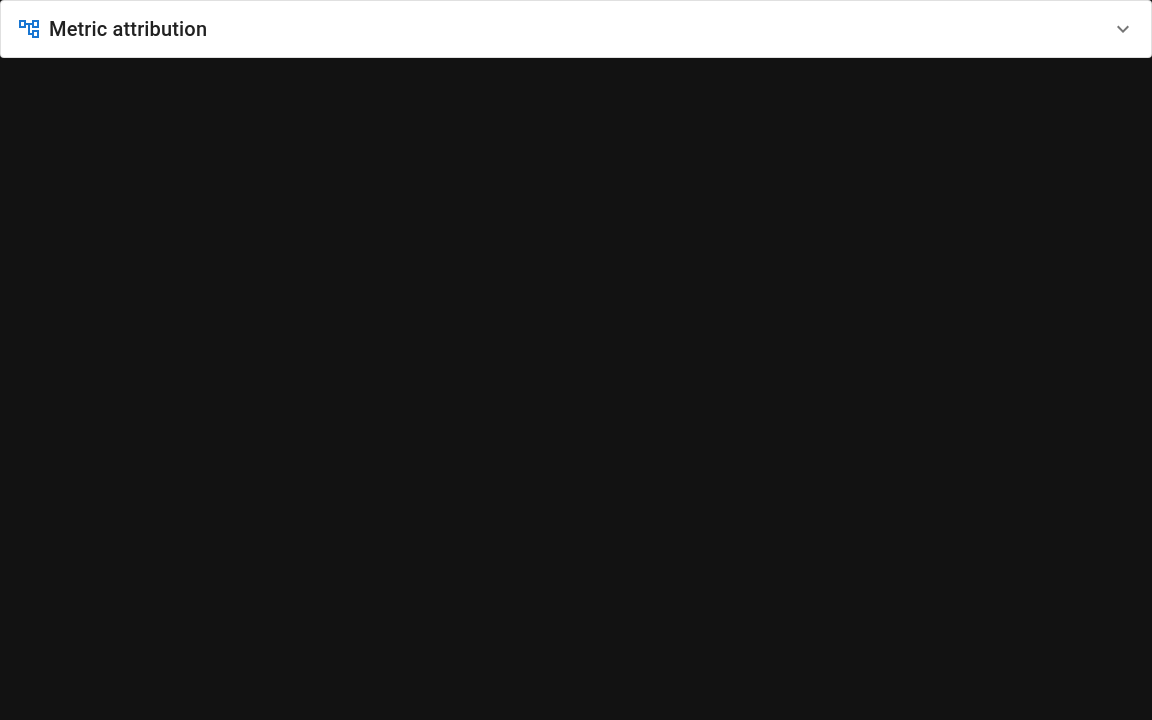
AttributionPanel › explains why a pod was not attributed
Click the button "Metric attribution" at (128, 29), box x1=1 y1=1 x2=1151 y2=57
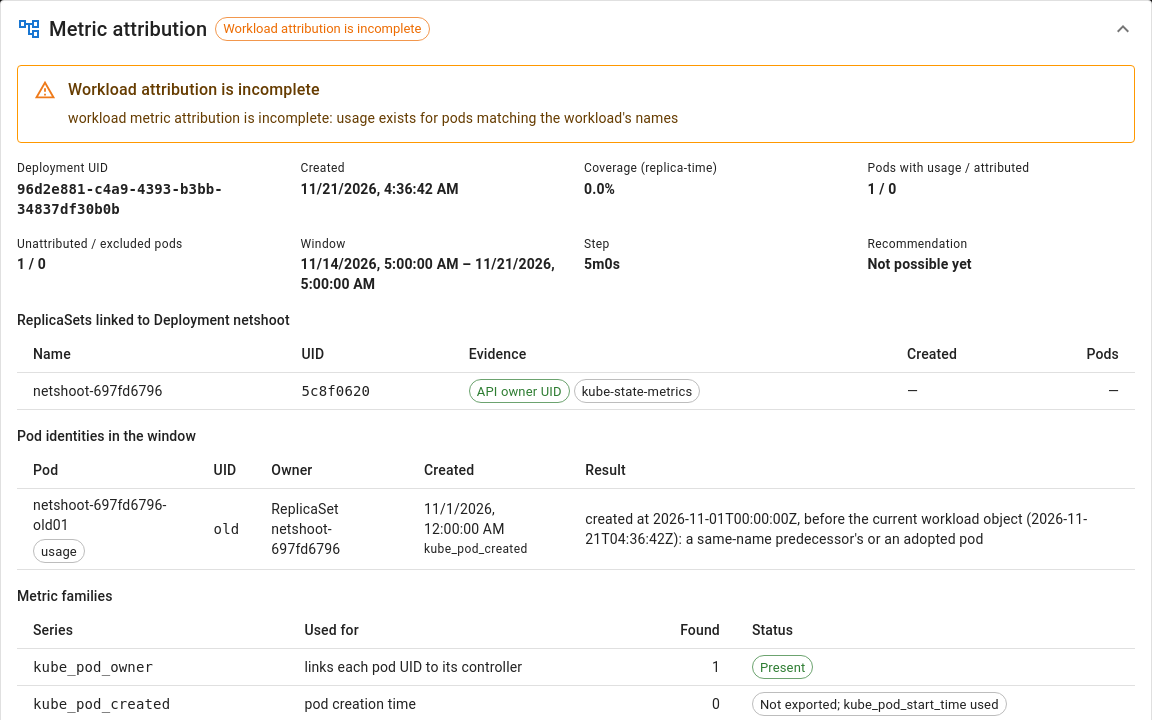
Now the text "before the current workload object" is shown, box x1=585 y1=511 x2=1087 y2=547
Now the 1st text "Workload attribution is incomplete" is shown, box x1=216 y1=19 x2=429 y2=39
Now the text "Not possible yet" is shown, box x1=868 y1=256 x2=972 y2=272
